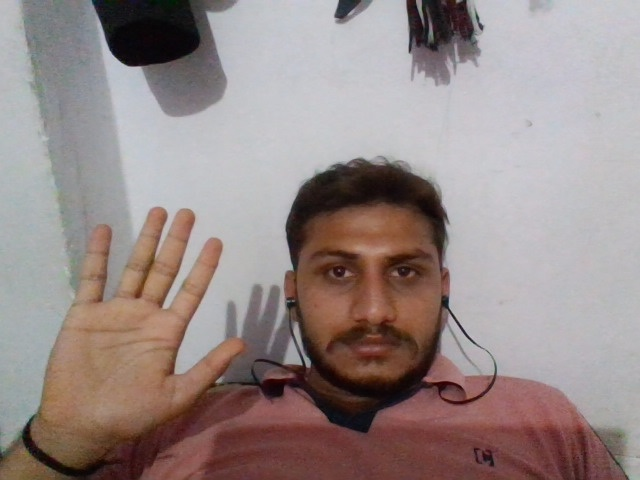Hello: (26, 191, 263, 451)
